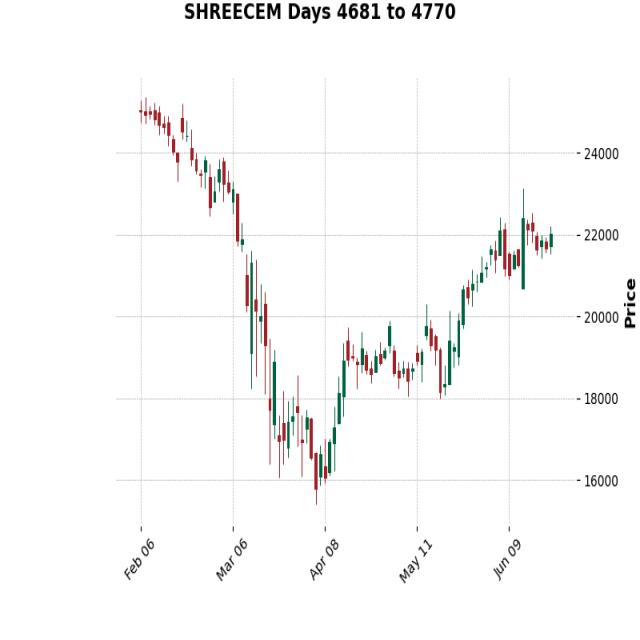Falling Wedge: (250, 290, 384, 504)
